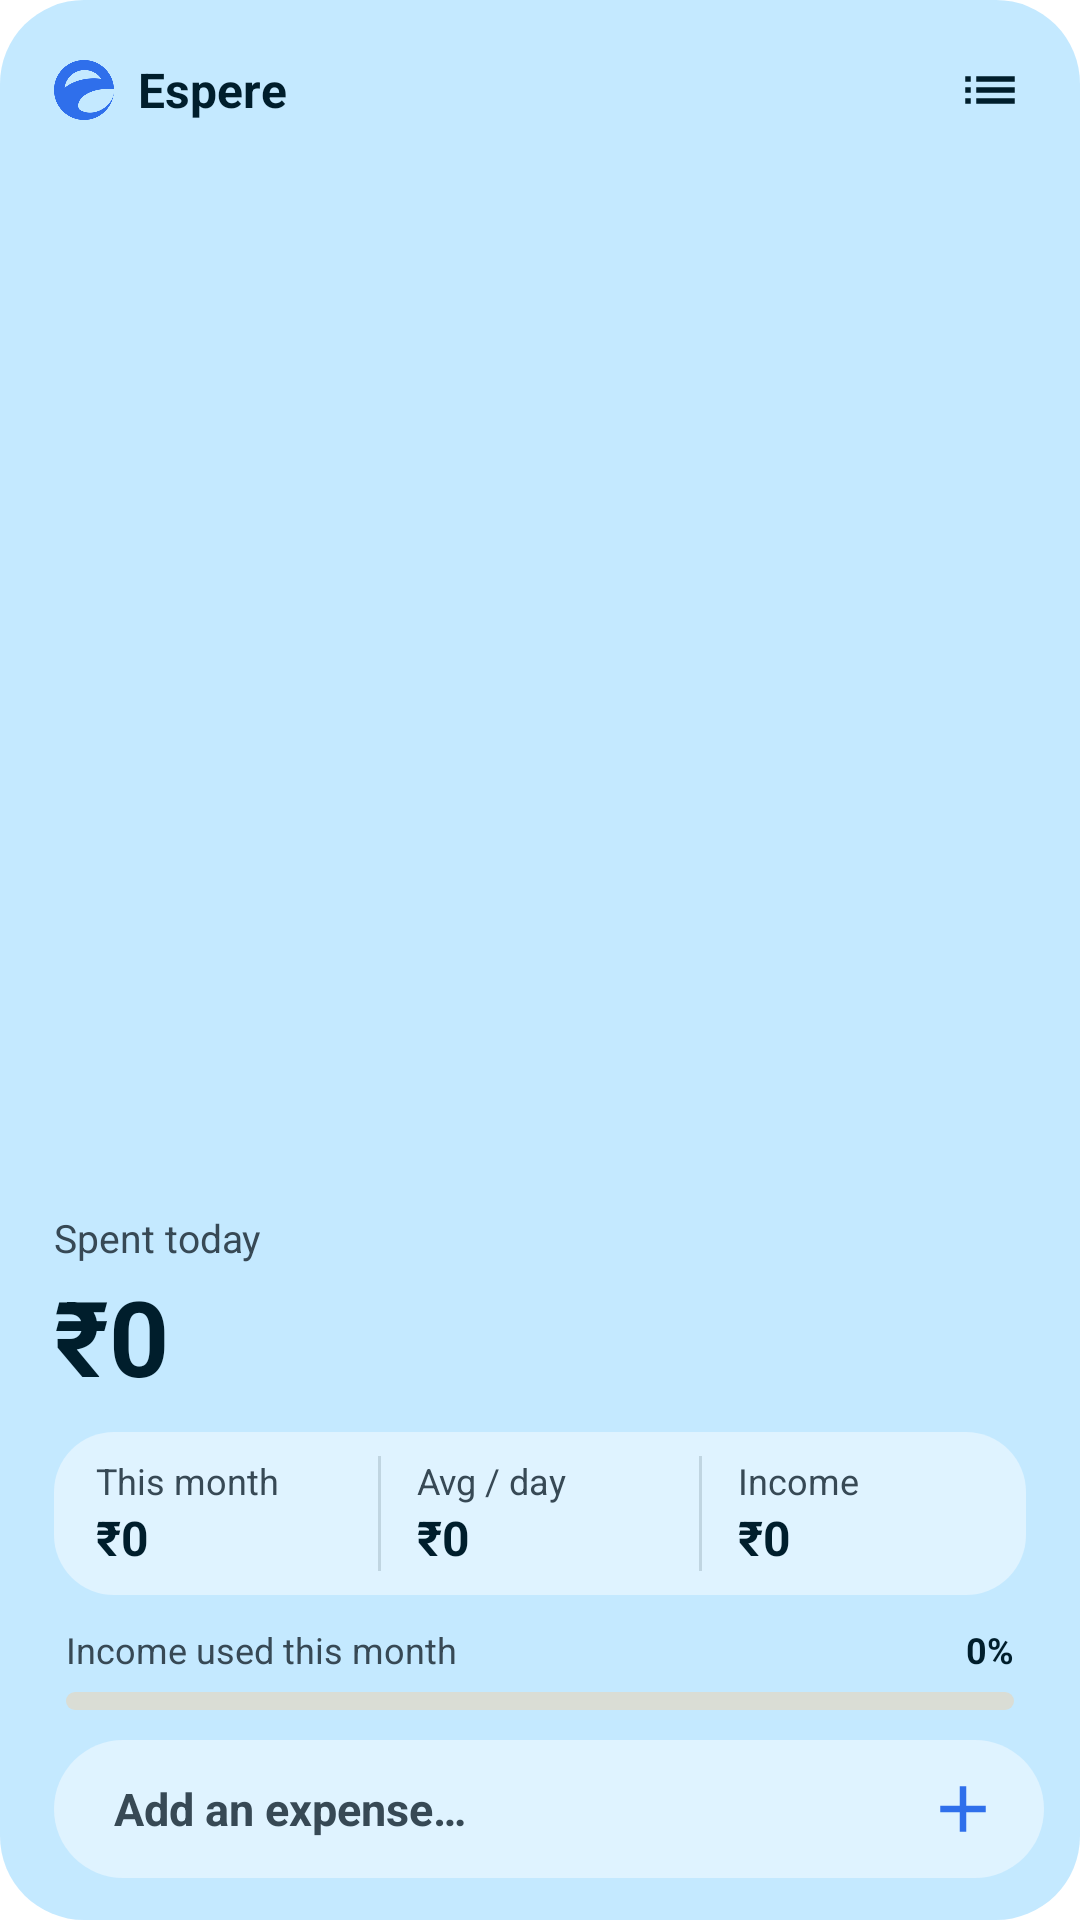

Icons on this 1080 × 1920 Android screen, each with its box as (x1=x1, y1=y1, x2=x2, y2=y2):
list: (x1=965, y1=76, x2=1015, y2=104)
plus: (x1=940, y1=1786, x2=986, y2=1832)
